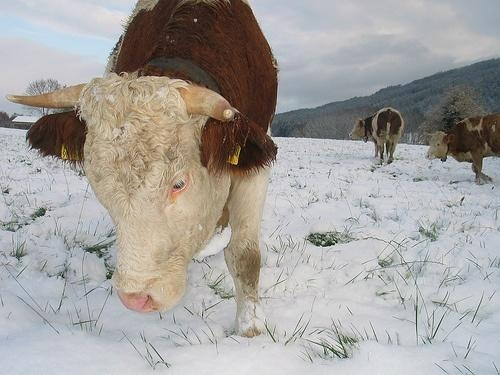cow: (7, 3, 279, 337), (426, 114, 500, 184), (348, 107, 405, 166)
